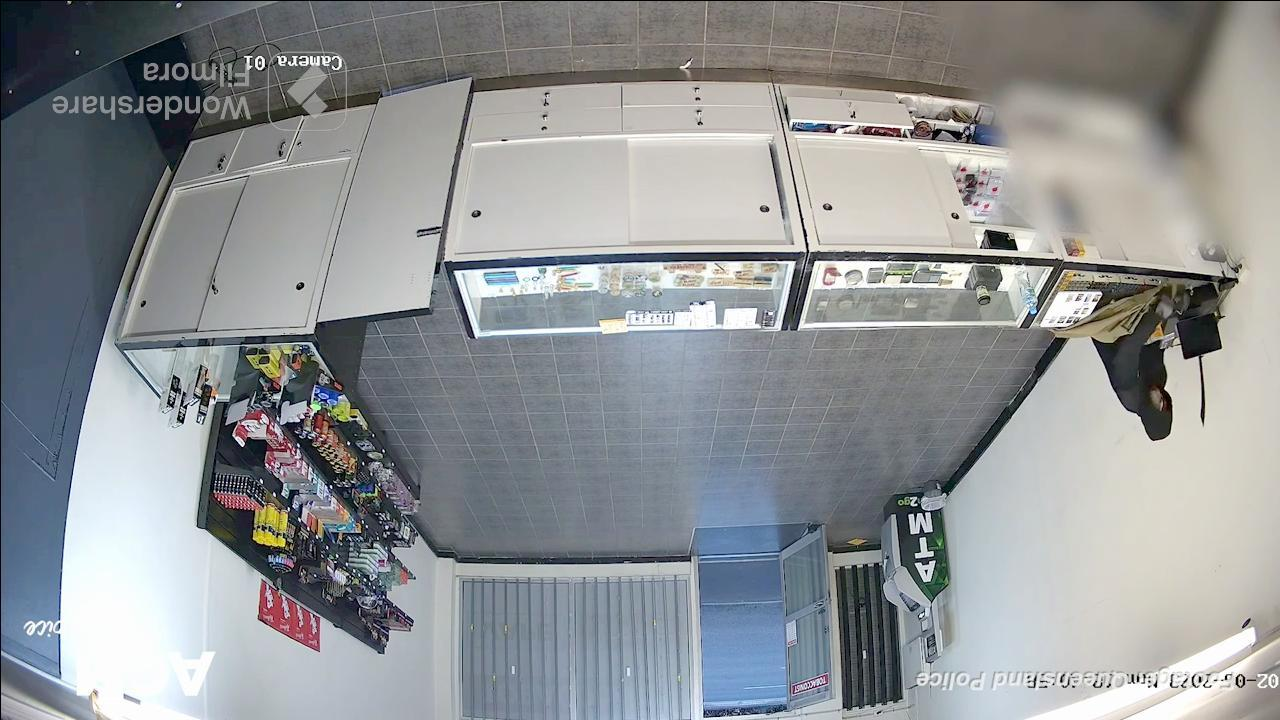melee: (1184, 346, 1210, 431)
